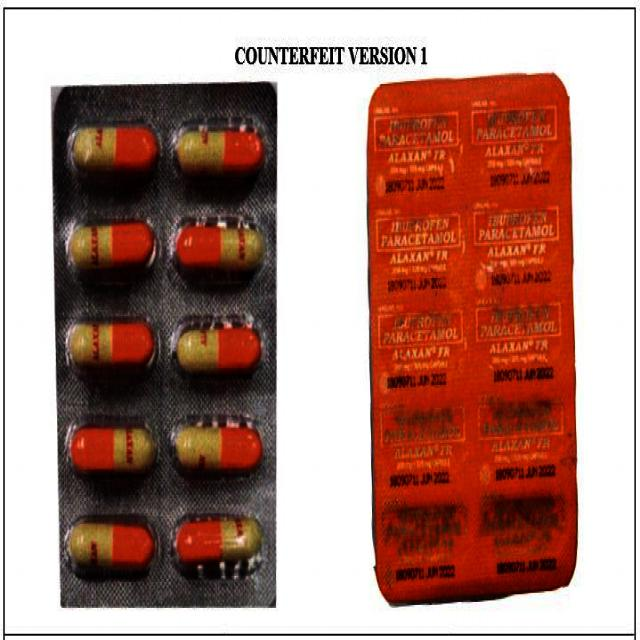counterfeit: (51, 76, 283, 614), (364, 75, 584, 587)
